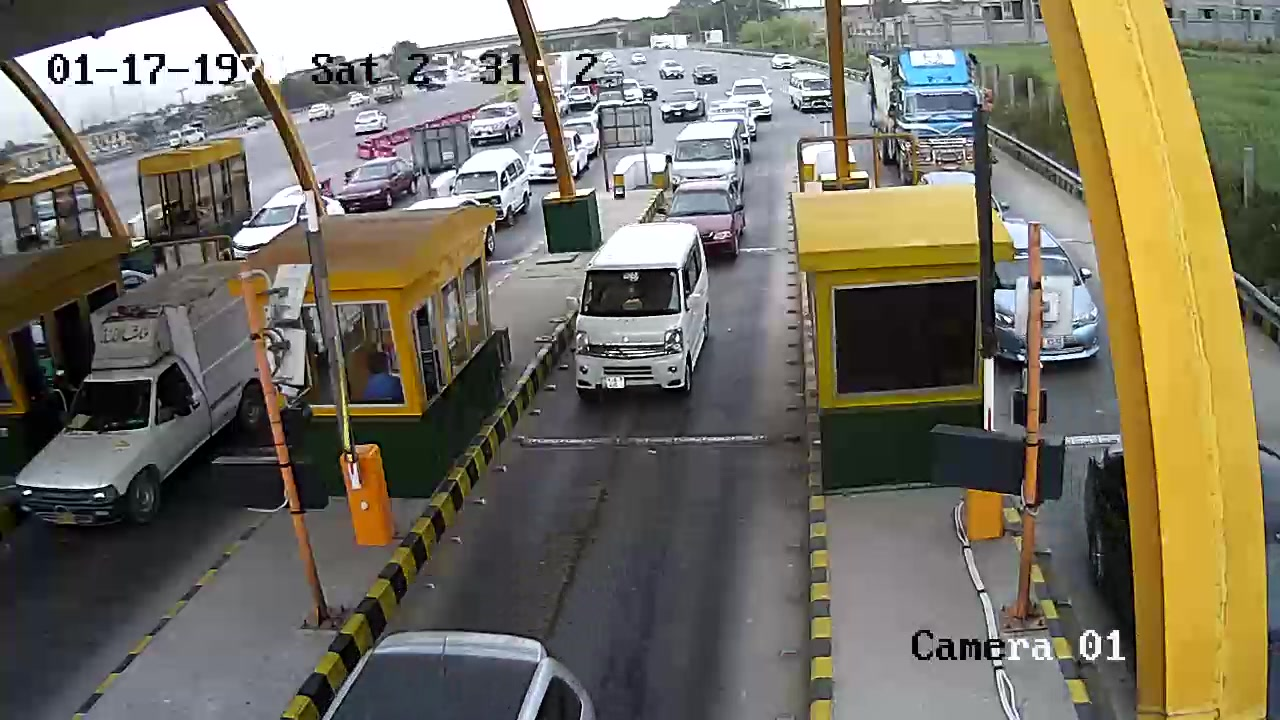F1: (555, 219, 721, 401)
